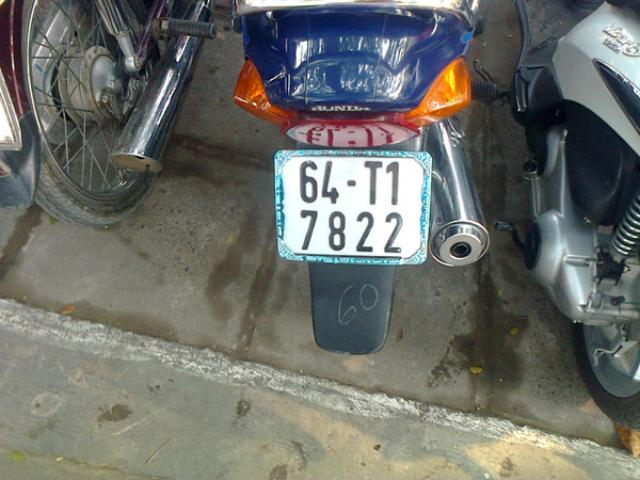plate: (276, 150, 424, 264)
